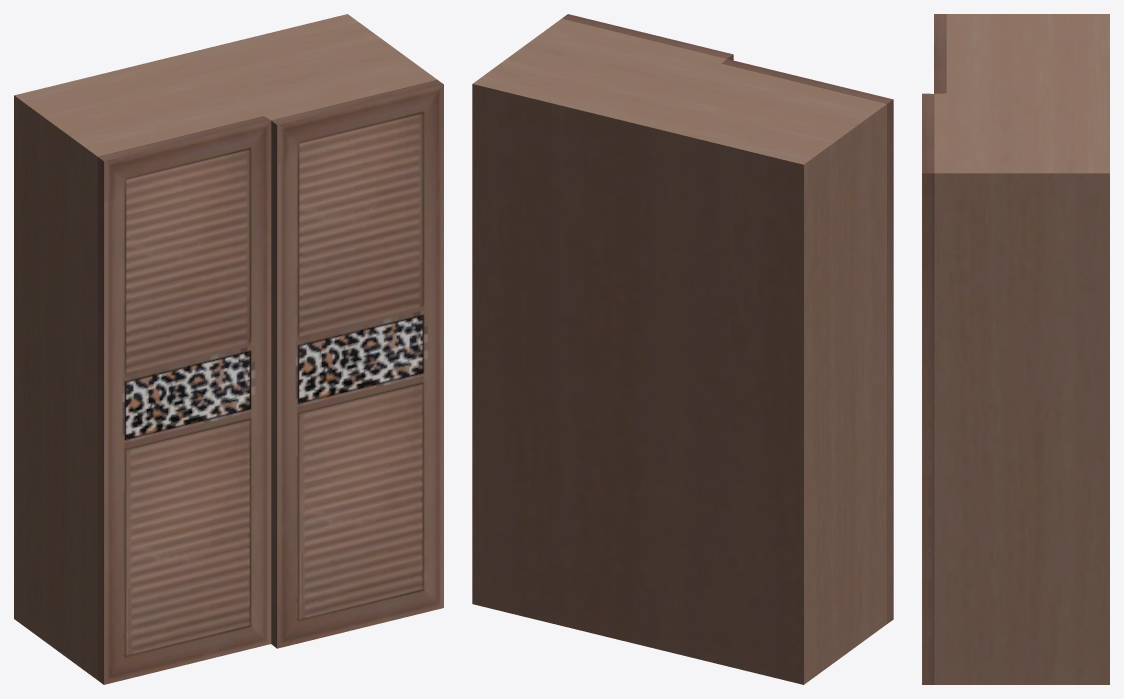
Rendered from furni_0200078.FBX.
3 views of the same model, side by side, from view 1: azimuth 30°, elevation 25°; view 2: azimuth 150°, elevation 25°; view 3: azimuth 270°, elevation 25° (orthographic). The views are drawn at different scales.
Visible parts, largest first — view 1: furni_0200078; view 2: furni_0200078; view 3: furni_0200078.
Boxes of the visible parts, x1,y1,x2,y2 form: furni_0200078: [14, 14, 443, 684]; furni_0200078: [472, 14, 893, 684]; furni_0200078: [922, 14, 1109, 684].
Bounding box in the file's own units: 160 × 240 × 79.9.
1 material, 1 textured.
